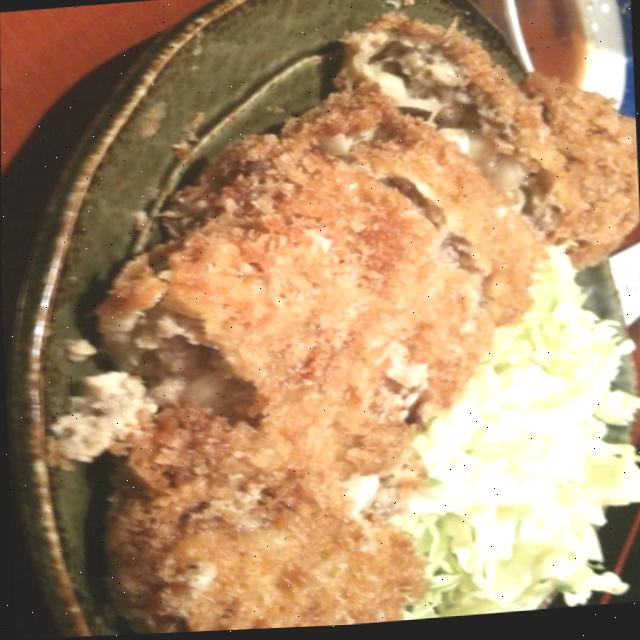炸货点心: (9, 33, 625, 640)
